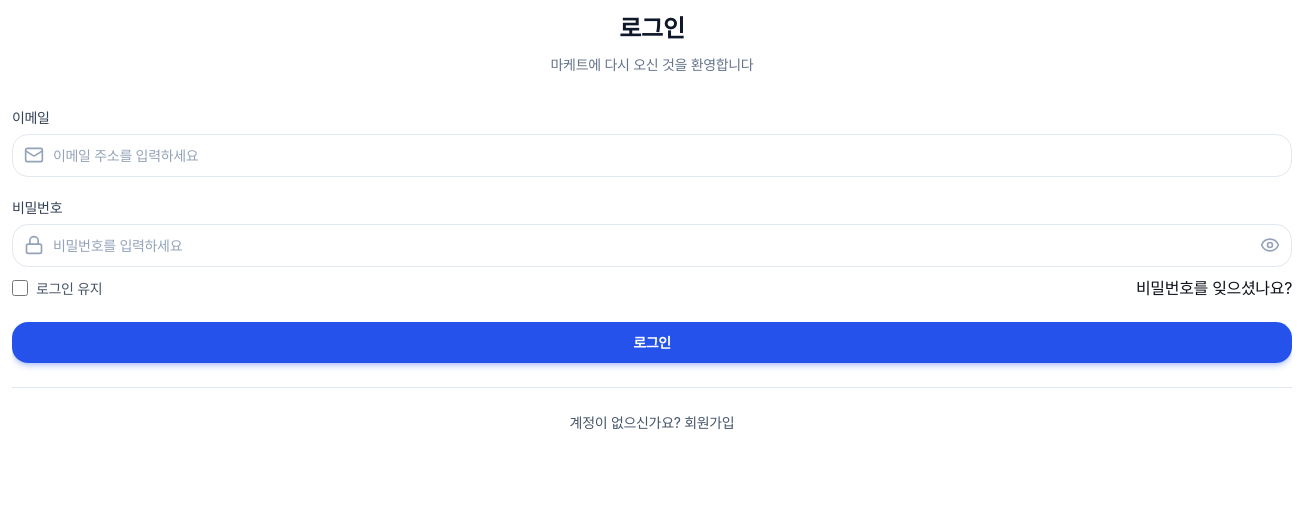
Test case: LoginPage › 로그인 실패 › 잘못된 비밀번호로 로그인 시 에러 메시지를 표시한다
Type "test@example.com" into the field labelled "이메일". click: (652, 155)
box: [12,134,1292,177]
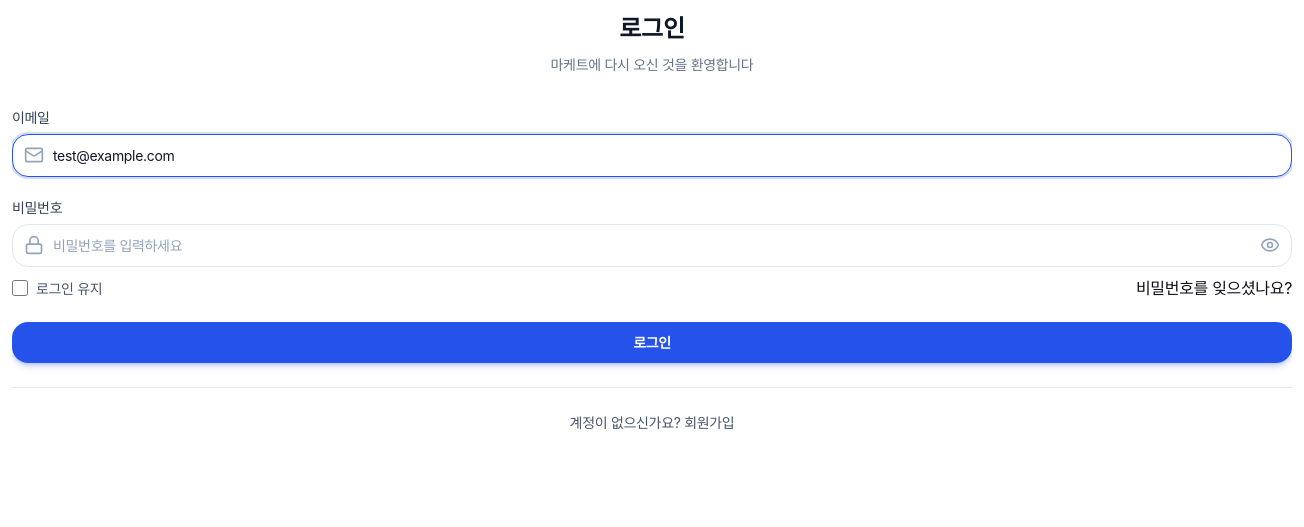
Type "wrongpassword" into the password field labelled "비밀번호". click: (652, 245)
box: [12,224,1292,267]
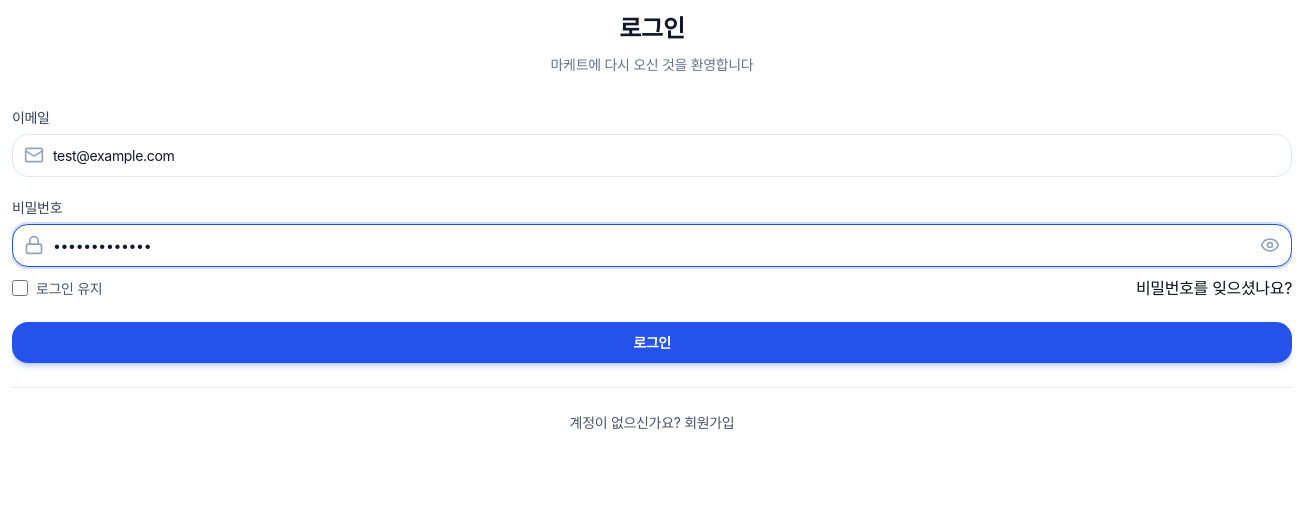
Click the button "로그인". click: (652, 342)
box: [12,322,1292,363]
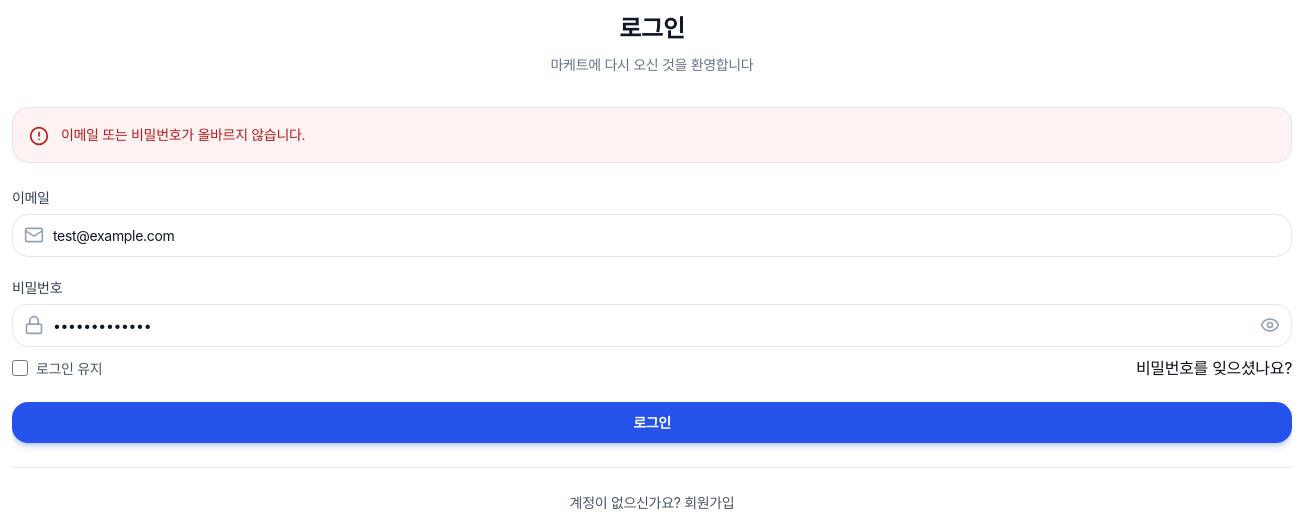
Result: the message "이메일 또는 비밀번호가 올바르지 않습니다." is shown at [12,107,1292,163]
Result: the text "이메일 또는 비밀번호가 올바르지 않습니다." is shown at [61,124,305,145]
